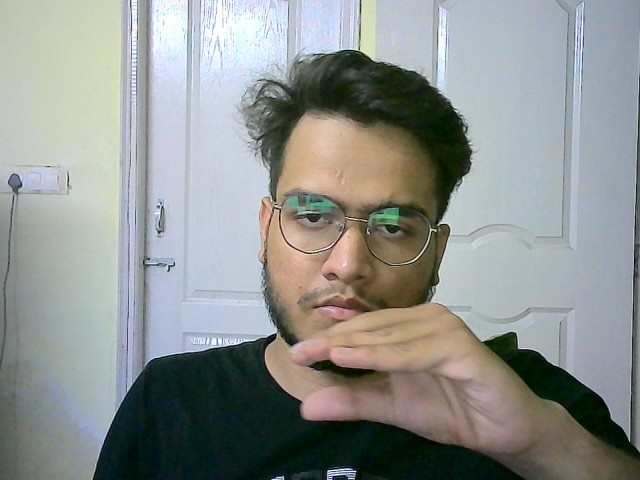No: (268, 300, 535, 436)
